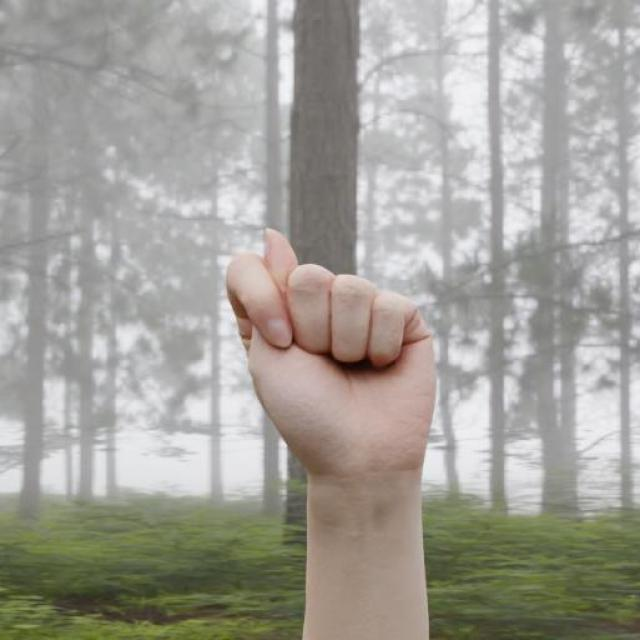T: (220, 223, 445, 492)
